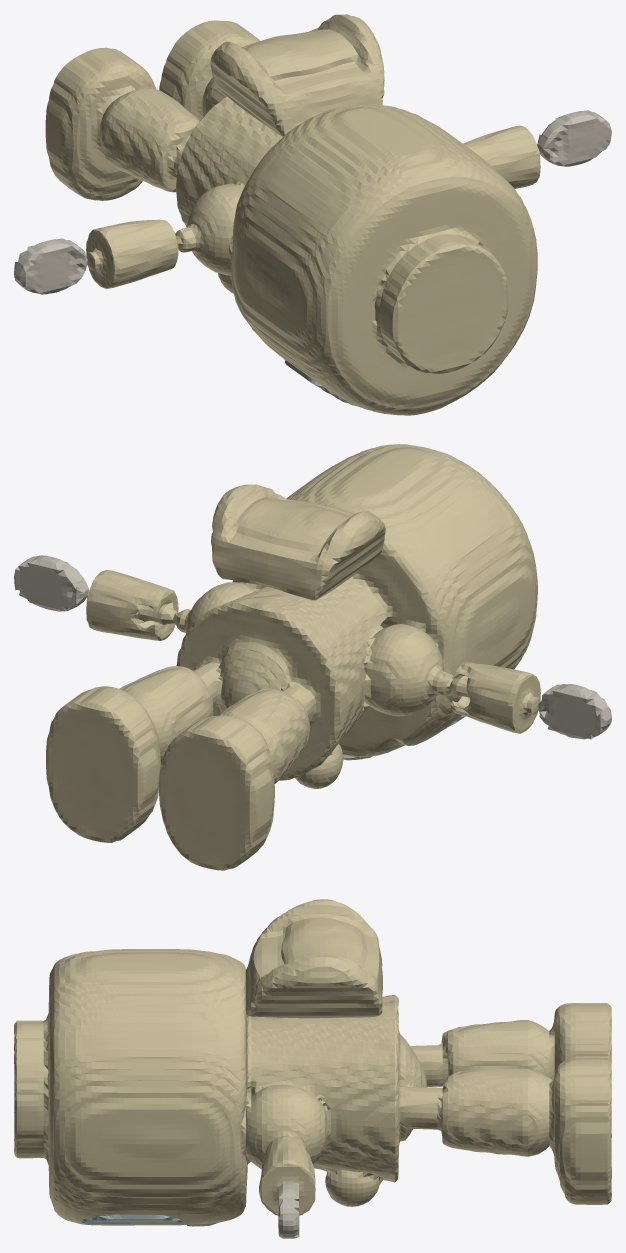
Rendered from source.glb.
3 renders of one model, top to bottom at view 1: azimuth 30°, elevation 25°; view 2: azimuth 150°, elevation 25°; view 3: azimuth 270°, elevation 25°, orthographic.
Visible parts, largest first — view 1: neural-part-000, neural-part-002; view 2: neural-part-000, neural-part-002; view 3: neural-part-000, neural-part-002, neural-part-001.
Part boxes in pixels (x1,y1,x2,y2): neural-part-000: [45, 14, 540, 415]; neural-part-002: [14, 110, 611, 294]; neural-part-000: [46, 444, 540, 870]; neural-part-002: [14, 555, 611, 760]; neural-part-000: [14, 899, 611, 1225]; neural-part-002: [187, 1182, 299, 1238]; neural-part-001: [82, 1214, 187, 1225].
Bounding box in the file's own units: 0.1 × 0.0475 × 0.0887.
